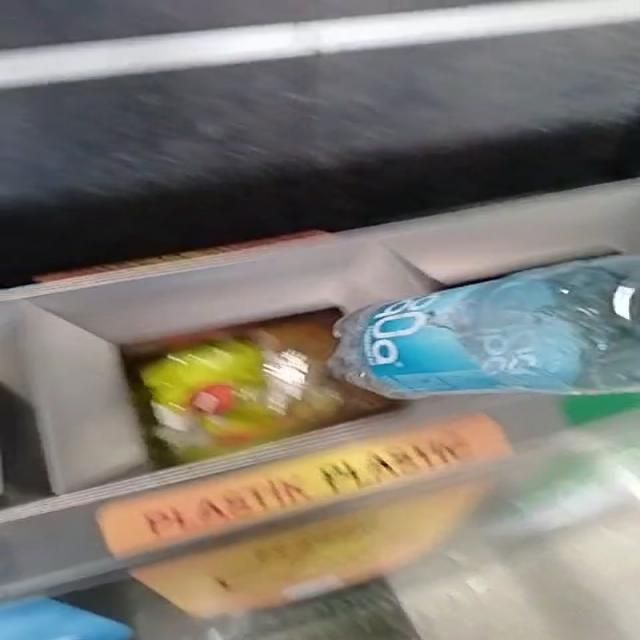plastic: (329, 255, 640, 400)
